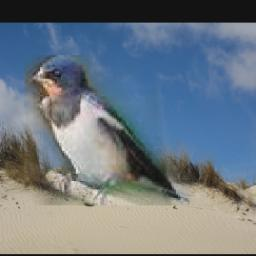Swallow: (25, 55, 191, 205)
